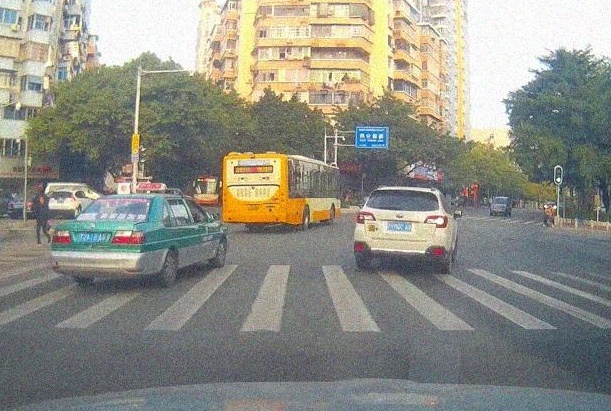L_light: (355, 210, 376, 224), (51, 230, 72, 244), (222, 189, 227, 203)
R_light: (110, 229, 147, 244), (424, 215, 448, 228), (281, 188, 287, 203)
T_light: (401, 189, 410, 193), (249, 156, 258, 160), (120, 198, 128, 201)
day-no: (49, 193, 155, 290), (354, 186, 449, 274), (222, 151, 289, 234)
